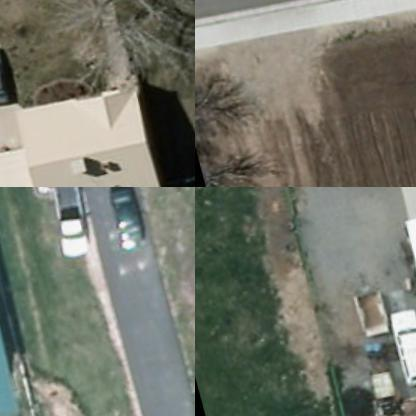car: (379, 308, 415, 391), (104, 187, 146, 257), (0, 43, 9, 110)
pickup: (40, 187, 98, 267)
